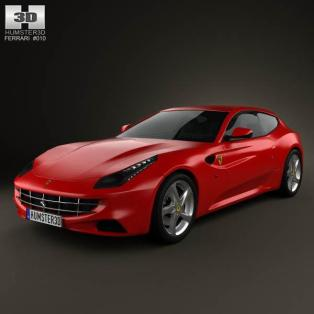Auto: (11, 102, 307, 250)
